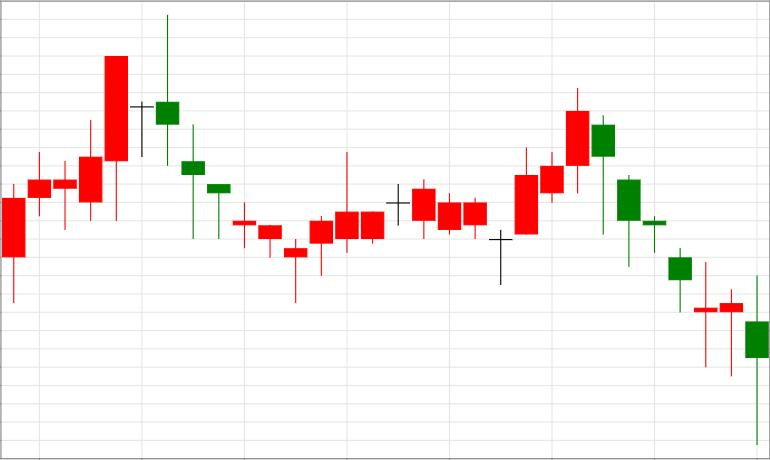hanging_man_fall: (488, 88, 615, 286)
